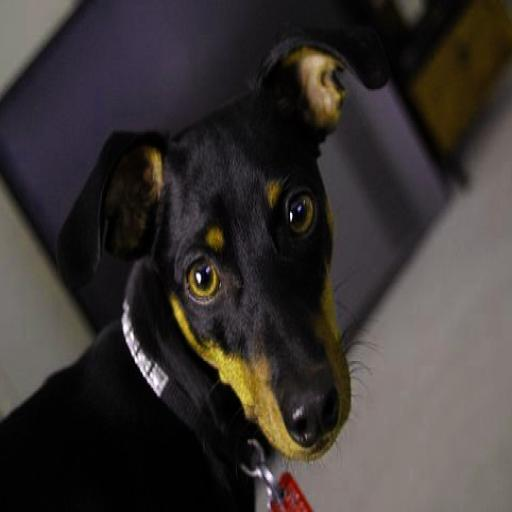dog_face: (60, 22, 354, 465)
